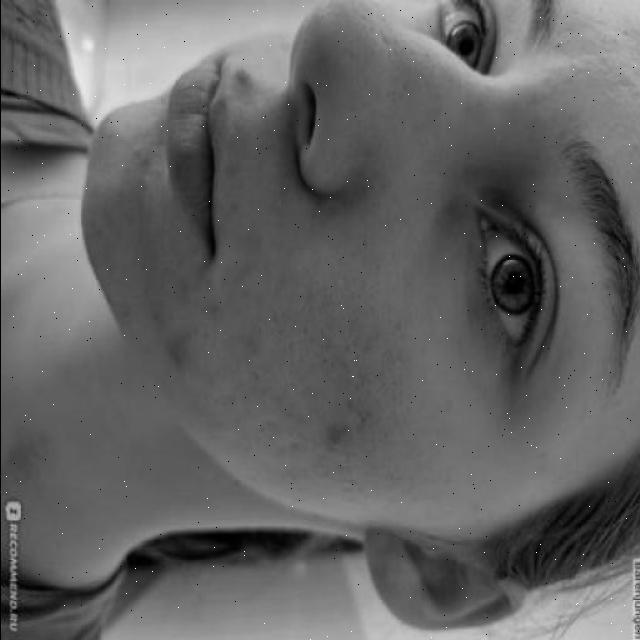Acne: (162, 298, 378, 446)
